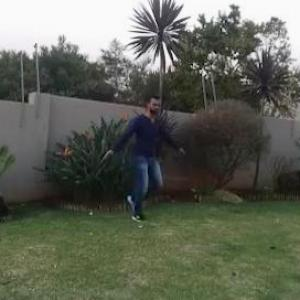land: (70, 79, 200, 240)
